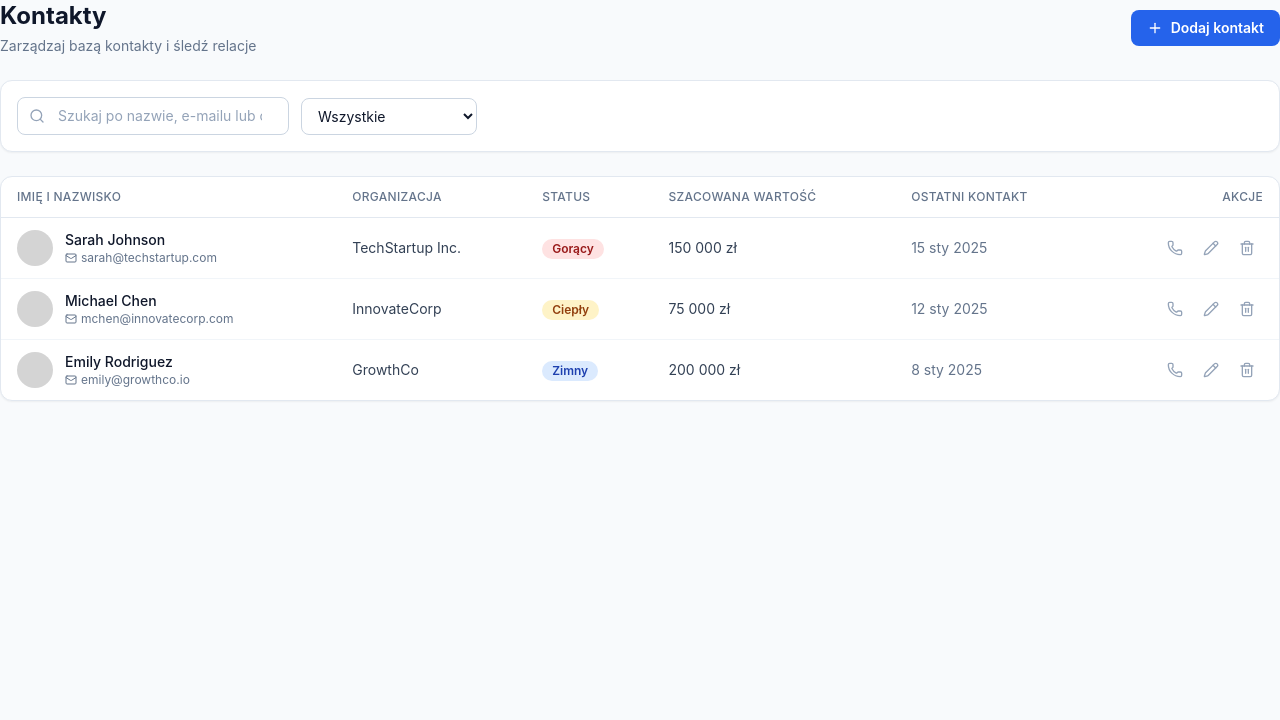
Test: ContactsView › opens the creation modal when clicking the add button
The image size is (1280, 720).
Step 1. Click the button "Dodaj kontakt" → (1205, 28), box [1131, 10, 1279, 46]
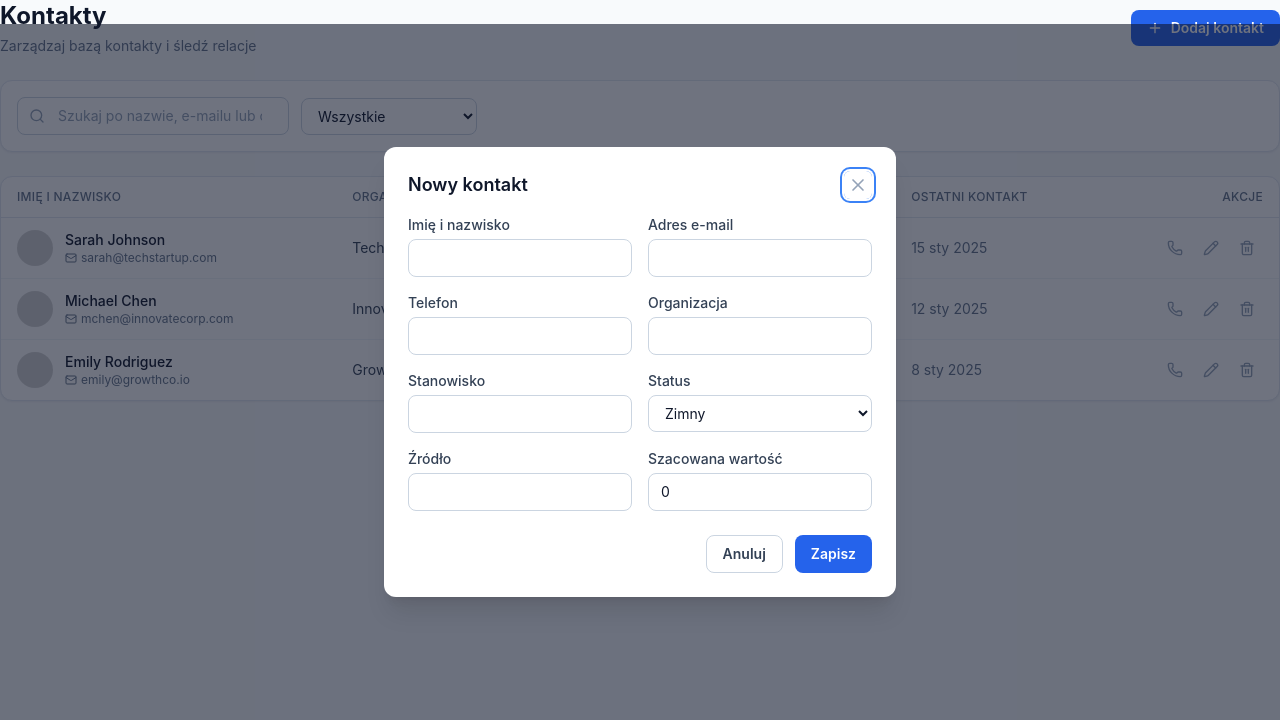
Result: the dialog is shown at [384, 147, 896, 597]
